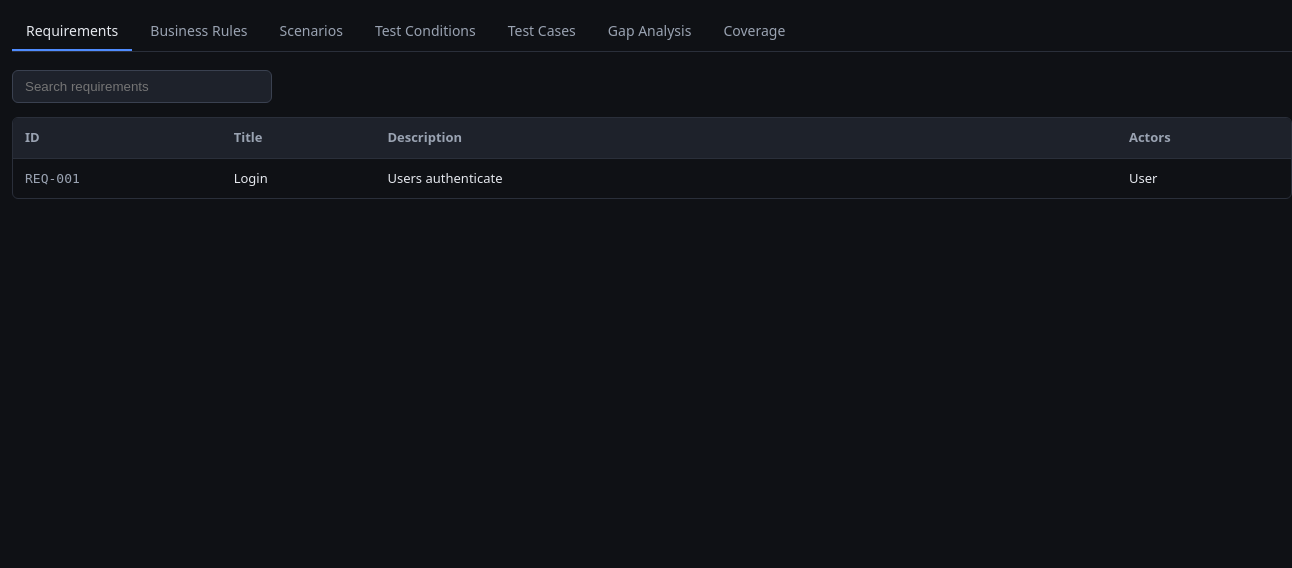
Test case: Results › shows condition coverage as its own dimension
The image size is (1292, 568).
Click the tab "Coverage".
click(754, 32)  # box [709,12,799,51]
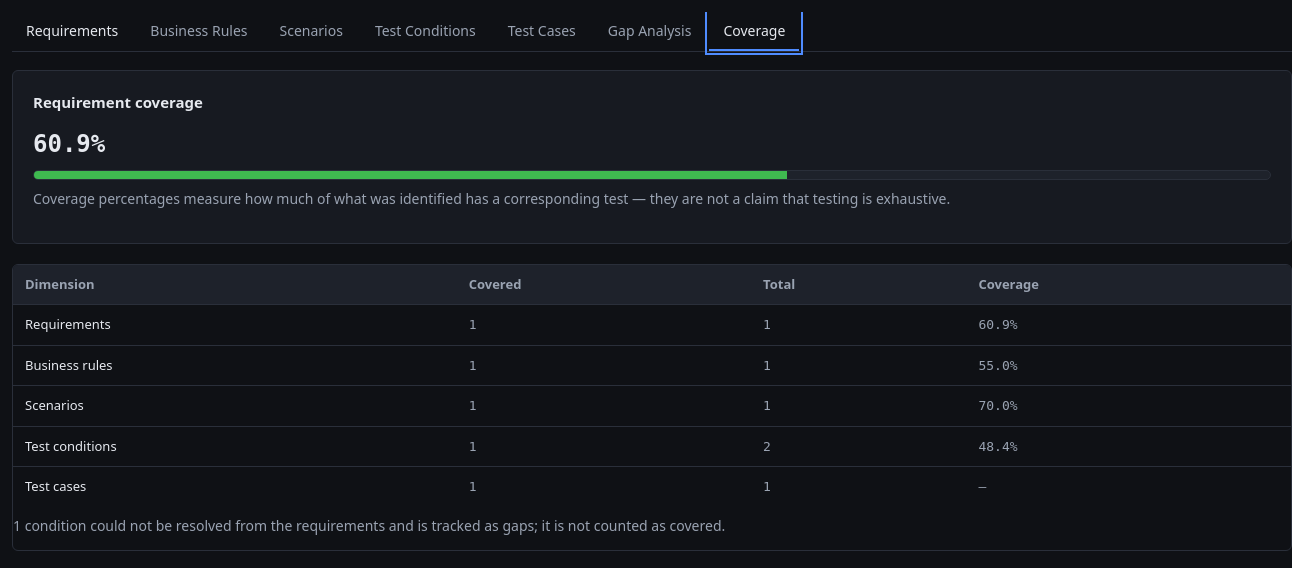
Now the text "Test conditions" is shown, box [13,426,457,466]
Now the text "not a claim that testing is exhaustive" is shown, box [33,188,950,208]
